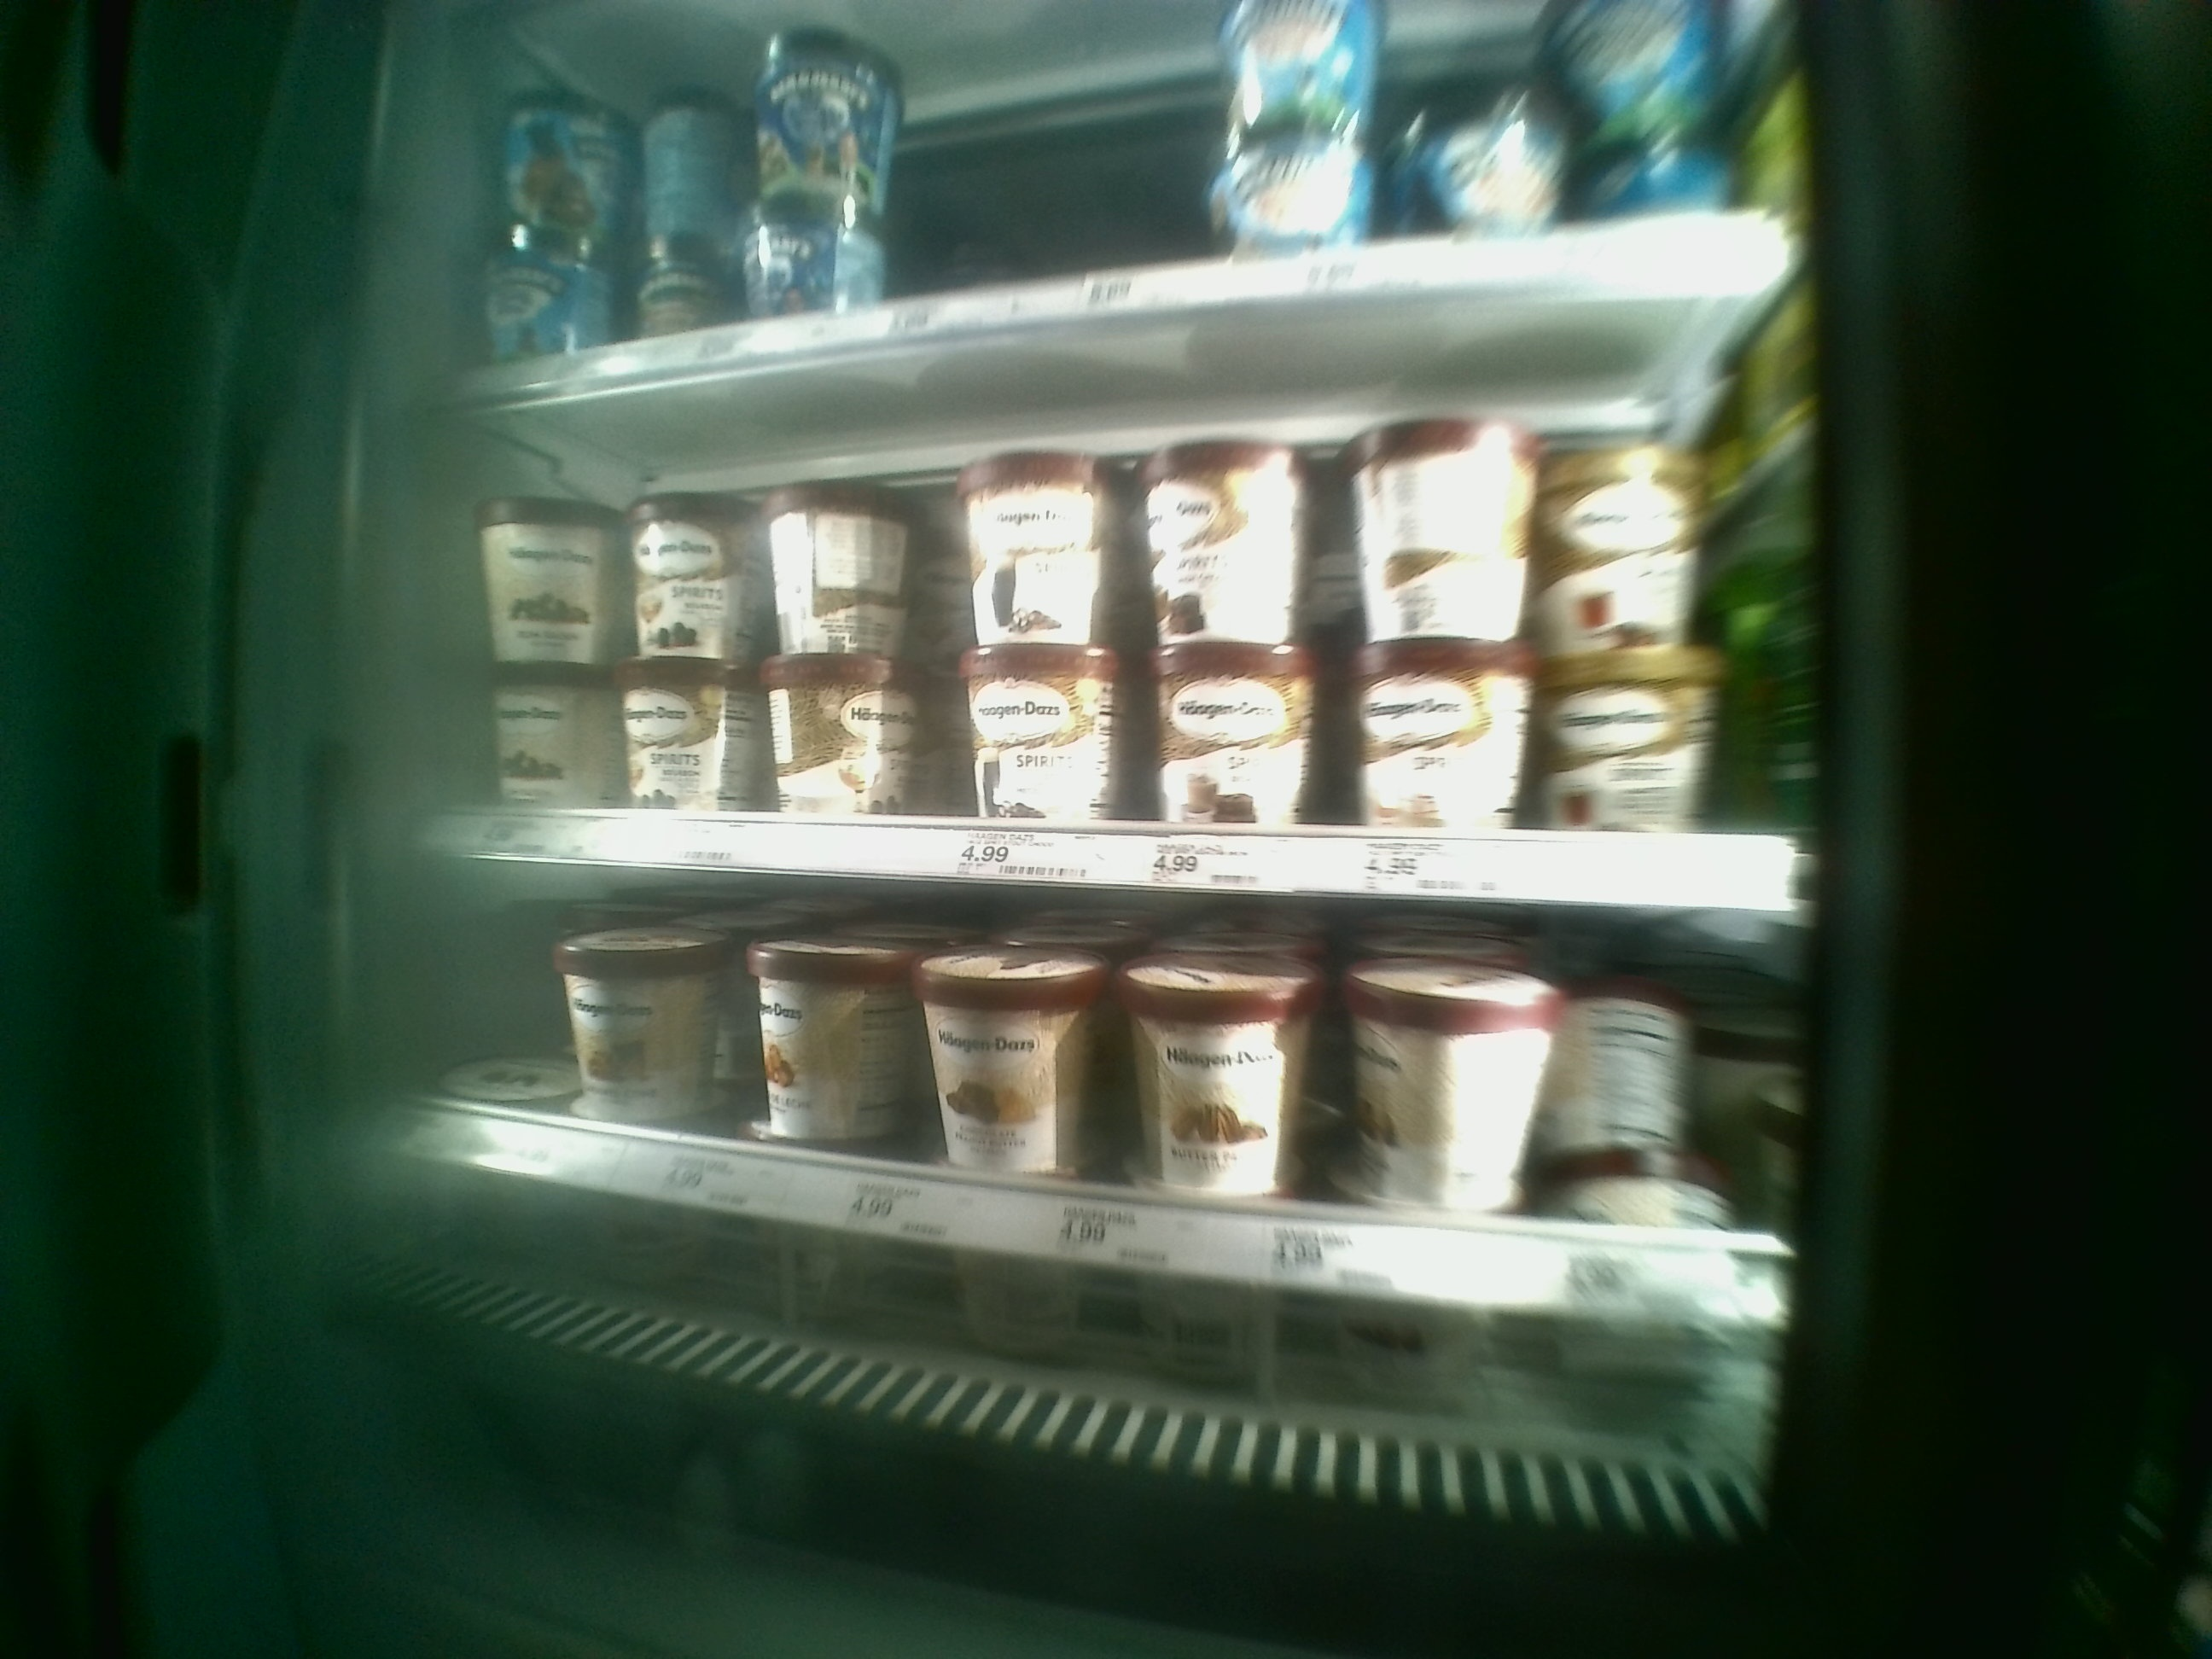ice-cream-shelf: (442, 866, 1756, 1342)
